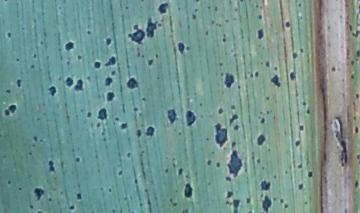tarspot: (222, 149, 244, 178), (124, 22, 146, 47), (214, 120, 229, 150), (146, 16, 163, 41), (221, 69, 236, 91), (1, 102, 18, 120), (183, 108, 198, 128), (31, 184, 46, 203), (260, 194, 275, 213), (269, 72, 283, 91), (181, 180, 194, 200), (62, 37, 77, 54), (74, 76, 87, 95), (166, 105, 177, 127), (258, 177, 273, 193), (155, 1, 170, 17), (103, 88, 117, 105), (175, 40, 187, 58), (97, 105, 108, 123), (125, 77, 140, 90), (144, 123, 157, 138), (255, 132, 268, 147), (291, 137, 305, 150), (103, 54, 116, 68), (14, 75, 25, 91), (62, 75, 75, 88), (254, 26, 266, 40), (232, 198, 243, 213), (102, 35, 115, 47), (212, 158, 225, 170), (46, 83, 57, 97), (46, 159, 57, 173), (294, 181, 308, 192), (90, 59, 104, 70), (227, 112, 242, 122), (263, 57, 273, 72), (203, 156, 215, 168), (304, 169, 315, 181), (104, 75, 115, 87), (145, 56, 157, 67), (328, 63, 339, 75), (253, 67, 263, 80), (225, 186, 234, 200), (176, 166, 185, 180), (132, 127, 143, 138), (215, 105, 226, 116), (130, 104, 141, 115), (115, 168, 126, 179), (118, 119, 128, 131), (289, 49, 299, 61), (4, 29, 14, 41), (131, 176, 140, 189), (352, 177, 360, 191), (287, 70, 298, 80), (258, 115, 268, 126), (66, 202, 77, 212), (297, 122, 306, 134), (75, 190, 83, 203), (84, 109, 94, 119), (73, 155, 83, 165), (244, 196, 255, 205), (351, 124, 360, 135), (303, 106, 312, 117), (231, 137, 238, 151), (108, 68, 118, 77), (284, 19, 291, 31), (353, 47, 360, 59), (354, 89, 360, 103), (232, 123, 239, 133)
